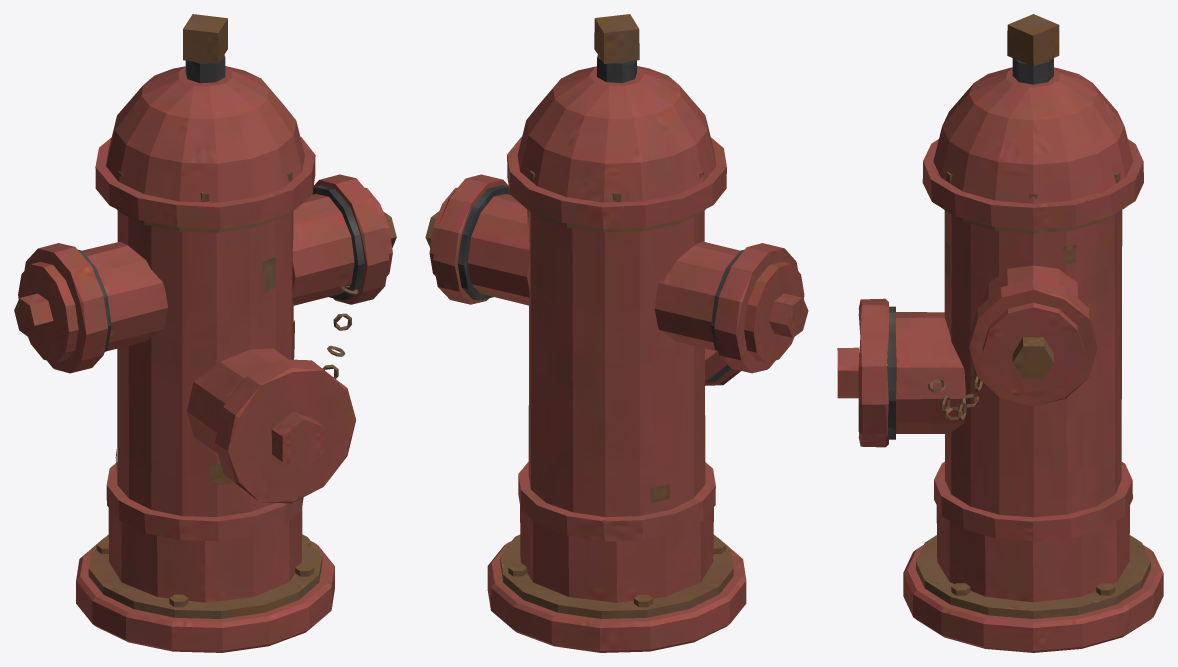
File: R13_fire_hydrant.glb
3 renders of one model, left to right at view 1: azimuth 30°, elevation 25°; view 2: azimuth 150°, elevation 25°; view 3: azimuth 270°, elevation 25°, orthographic.
Visible parts, largest first — view 1: Heavy foot flange; view 2: Heavy foot flange; view 3: Heavy foot flange.
Boxes of the visible parts, x1,y1,x2,y2 form: Heavy foot flange: [14, 14, 396, 652]; Heavy foot flange: [425, 14, 808, 652]; Heavy foot flange: [837, 14, 1163, 652].
Bounding box in the file's own units: 0.5264 × 0.8 × 0.4113.
Materials: 4 (4 with a texture image).
